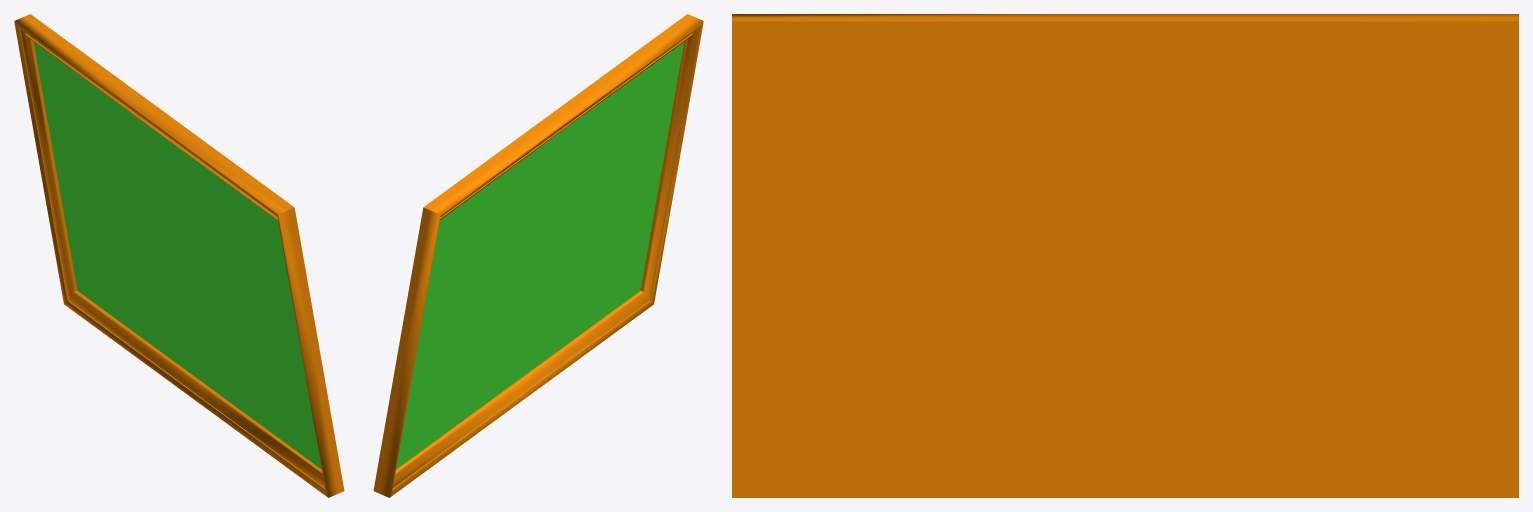
The model's file is quadro-cossacos.FBX.
3 renders of one model, left to right at view 1: azimuth 30°, elevation 25°; view 2: azimuth 150°, elevation 25°; view 3: azimuth 270°, elevation 25°, orthographic. The views are drawn at different scales.
Parts seen in each view (by area): view 1: quadro_cossacos_ilya_repin; view 2: quadro_cossacos_ilya_repin; view 3: quadro_cossacos_ilya_repin.
Boxes of the visible parts, x1,y1,x2,y2 form: quadro_cossacos_ilya_repin: (14,14,344,497); quadro_cossacos_ilya_repin: (373,14,703,497); quadro_cossacos_ilya_repin: (732,14,1518,497).
Size of the model in its own units: 52.71 by 226 by 362.
